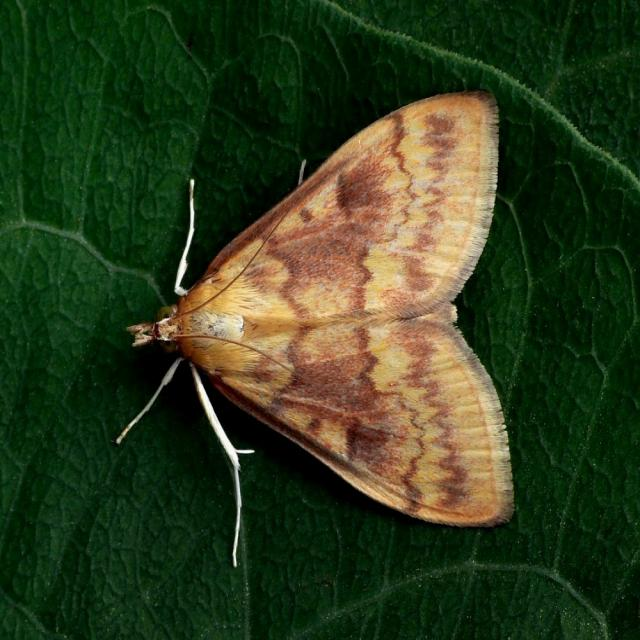cornborer-Adult-: (101, 82, 524, 552)
